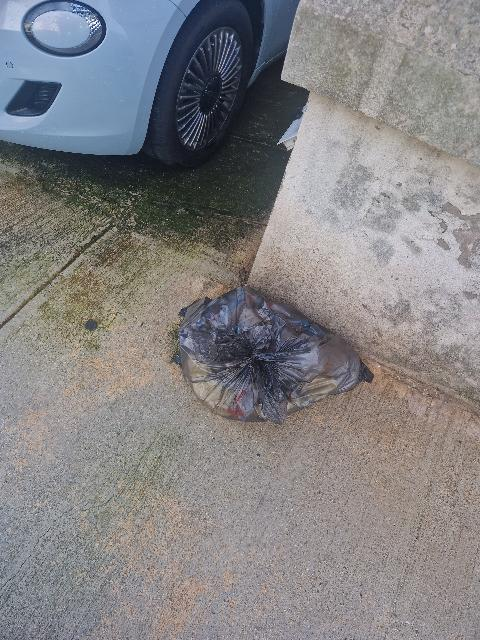Recyclable -Grey-: (180, 286, 364, 424), (0, 160, 113, 325)
